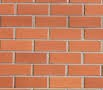brick: (69, 16, 102, 28), (51, 3, 83, 15), (14, 28, 48, 39), (36, 16, 67, 28), (18, 3, 50, 14), (51, 29, 81, 40), (1, 16, 33, 26), (34, 41, 66, 51), (15, 53, 47, 63), (49, 77, 81, 87), (50, 53, 81, 63), (34, 64, 65, 74), (1, 40, 31, 50), (1, 64, 31, 74), (16, 77, 46, 87), (68, 65, 100, 74), (69, 41, 100, 50), (84, 4, 103, 15), (84, 53, 103, 64), (85, 29, 102, 39), (85, 78, 103, 87), (1, 3, 17, 13), (1, 27, 14, 38), (1, 52, 12, 62), (1, 77, 13, 86)
